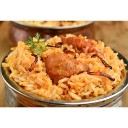briyani: (11, 37, 126, 93)
